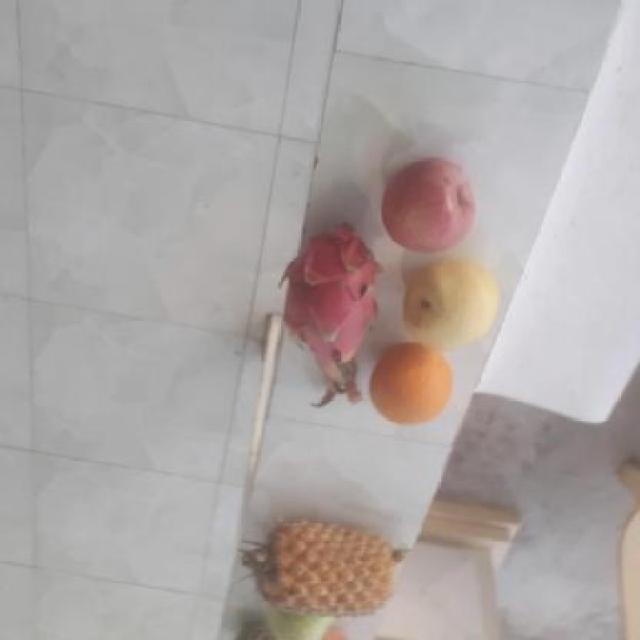apple: (381, 156, 476, 255)
dragon fruit: (285, 223, 396, 380)
oren: (372, 345, 456, 431)
pear: (400, 256, 502, 353)
pineapple: (251, 518, 405, 620)
